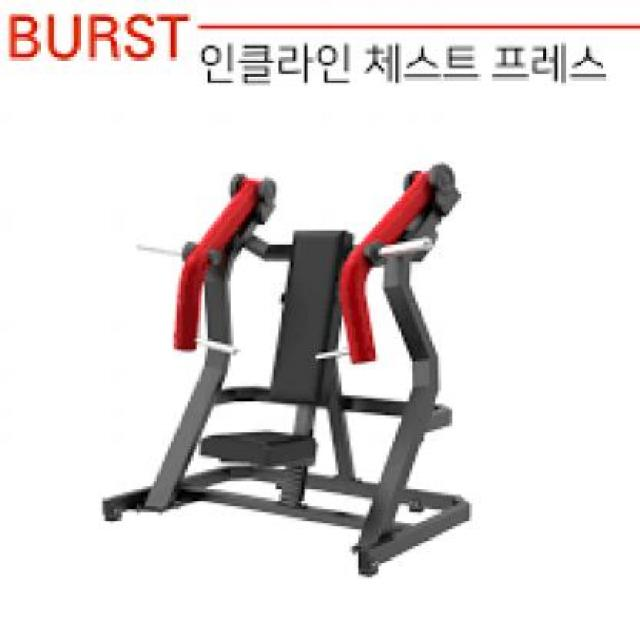Chest Press machine: (84, 156, 518, 584)
